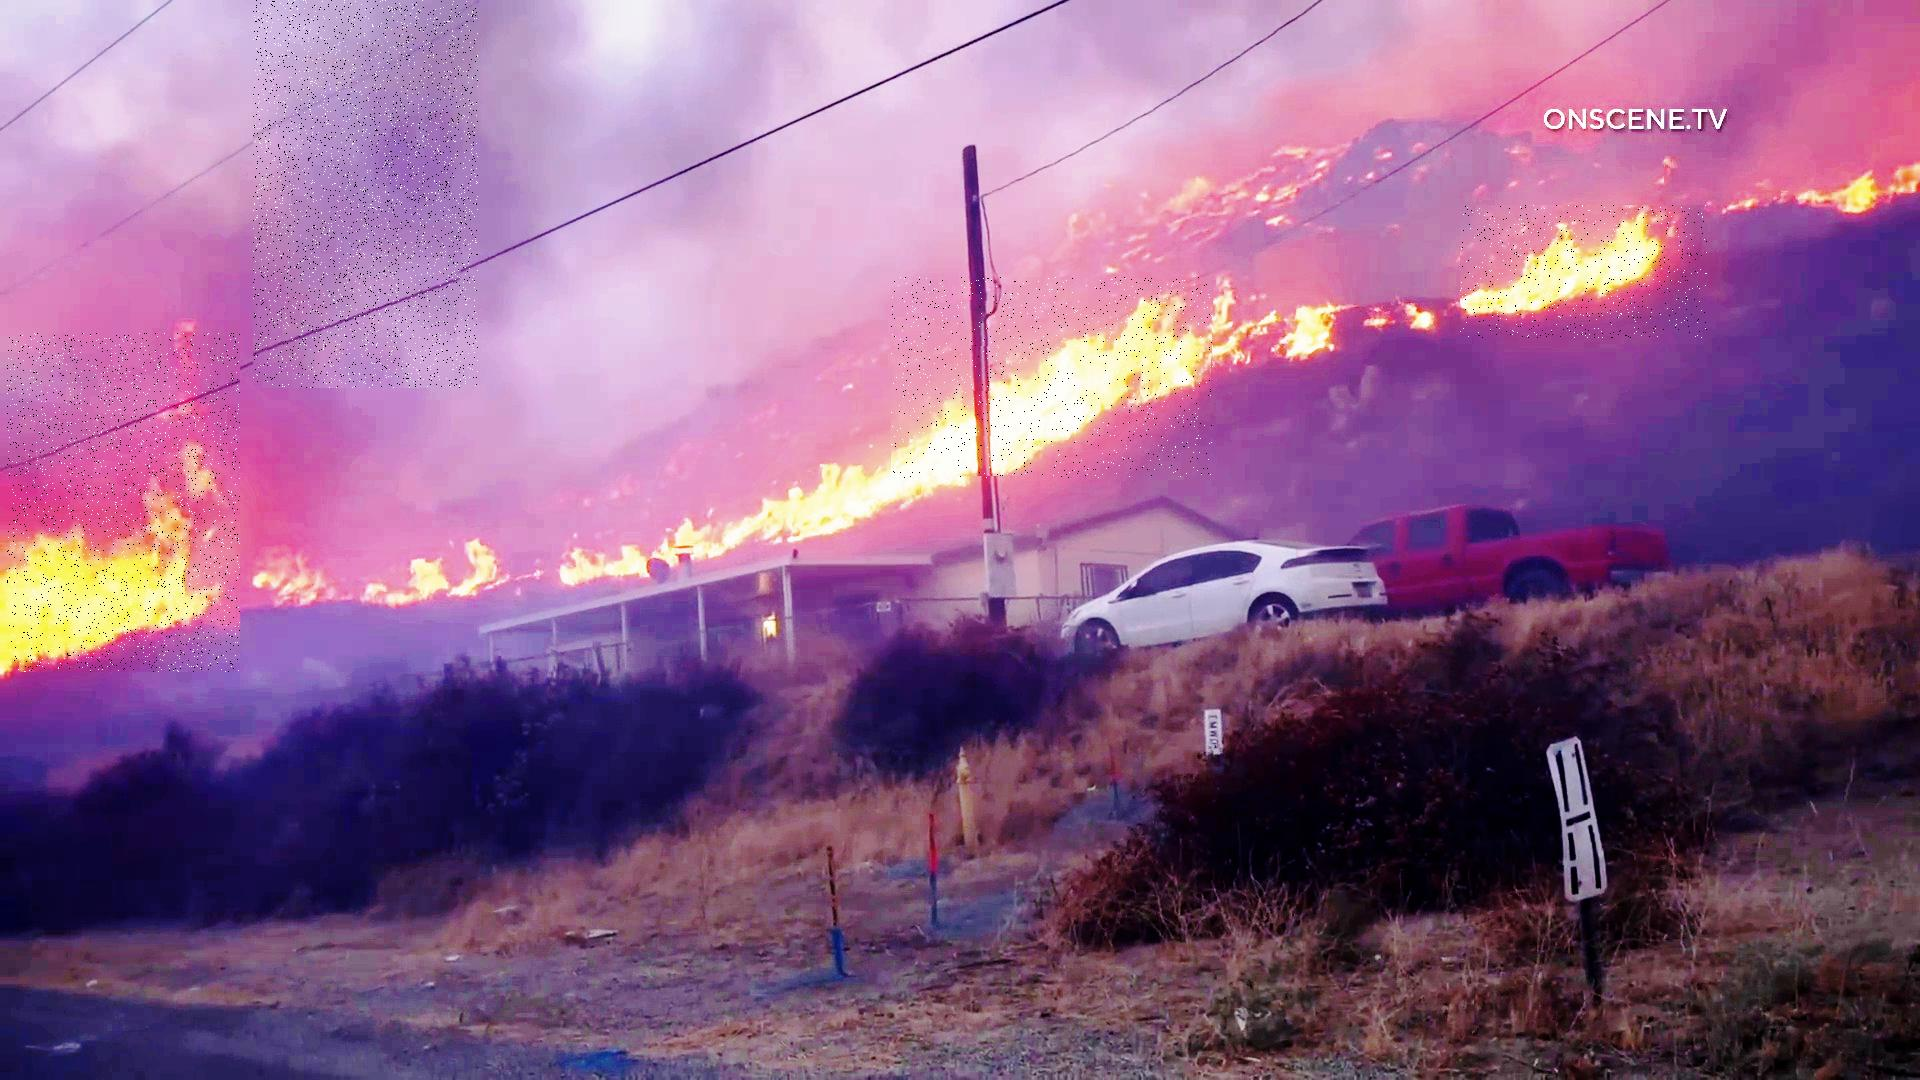fire: (8, 334, 240, 673), (891, 278, 1213, 479), (1461, 206, 1708, 339)
smoke: (253, 0, 479, 388)
